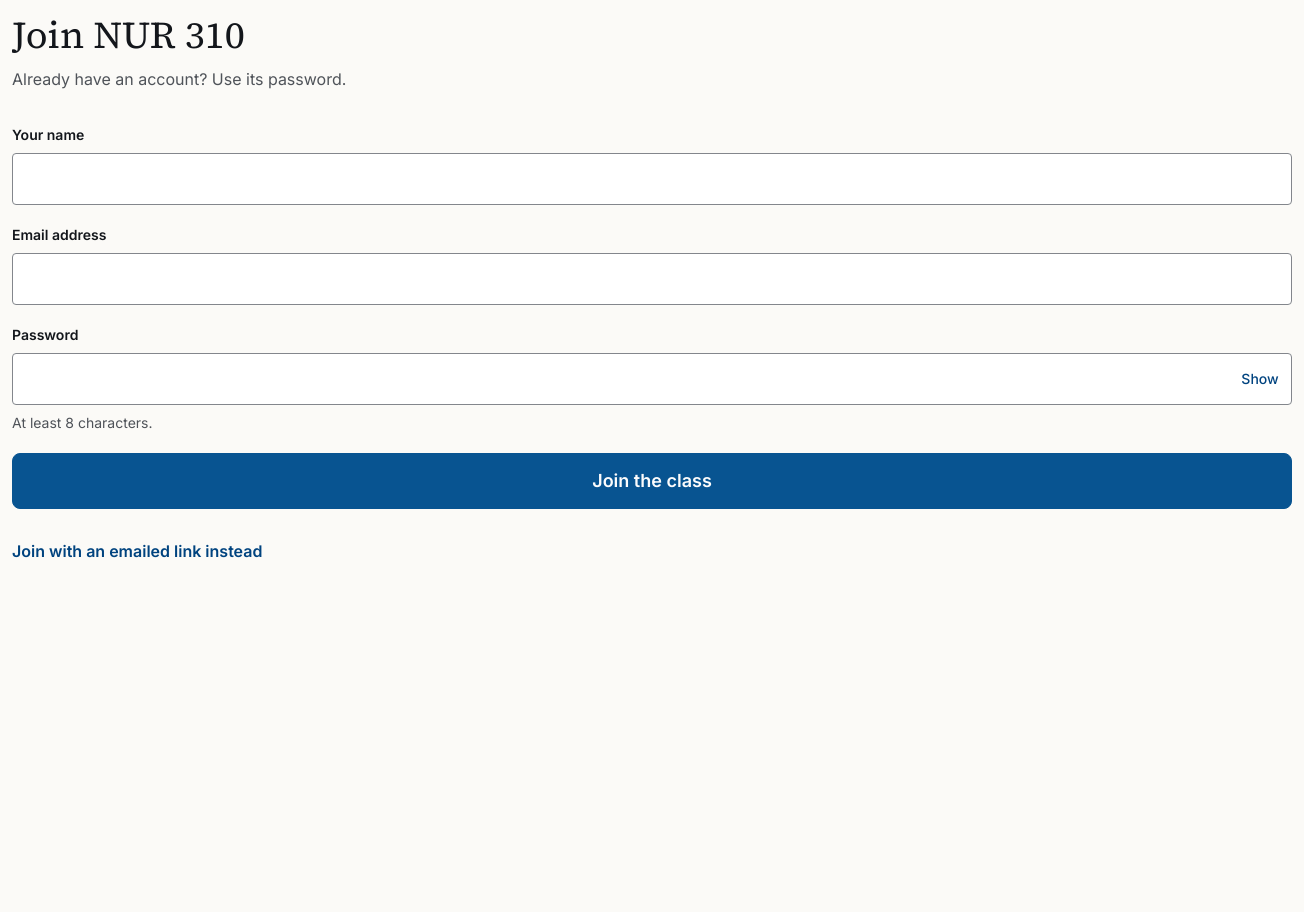
it: InvitePanel › puts a name error on the name field
This screenshot has width=1304, height=912.
Type "Ana Reyes" into the field labelled "Your name" at (652, 179), box [12,153,1292,205]
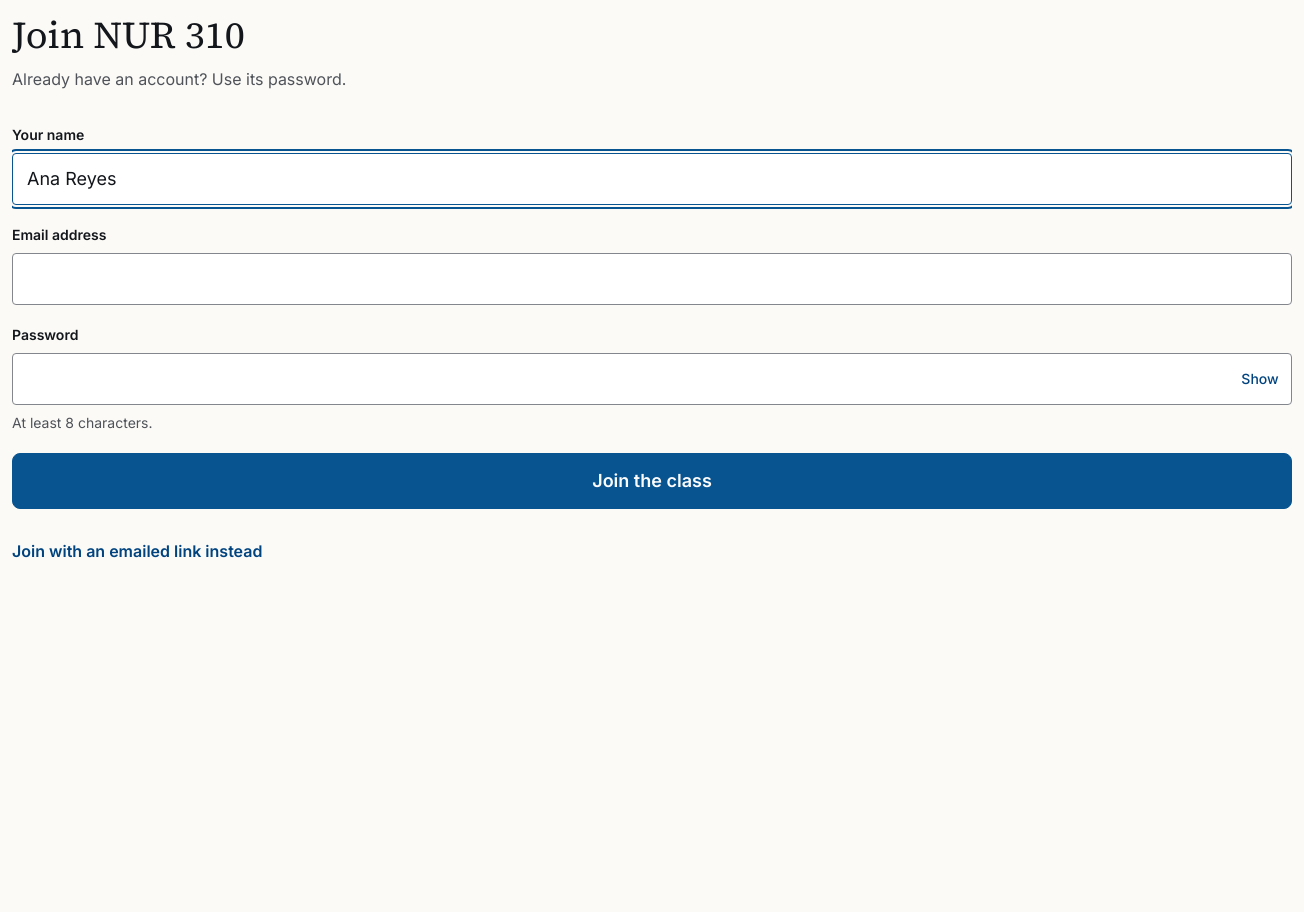
Type "a@school.edu" into the field labelled "Email address" at (652, 279), box [12,253,1292,305]
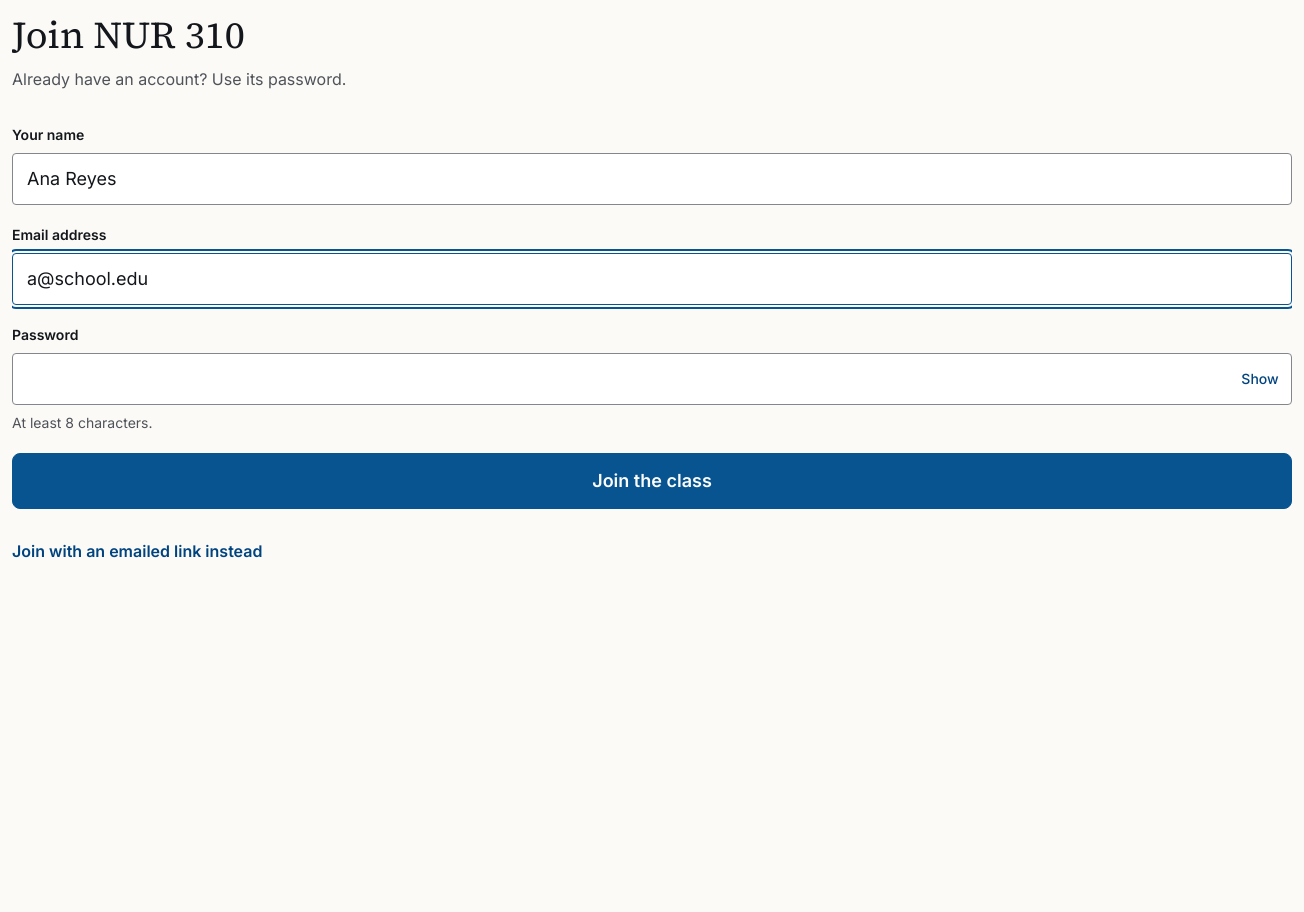
Type "correct horse" into the password field labelled "Password" at (652, 379), box [12,353,1292,405]
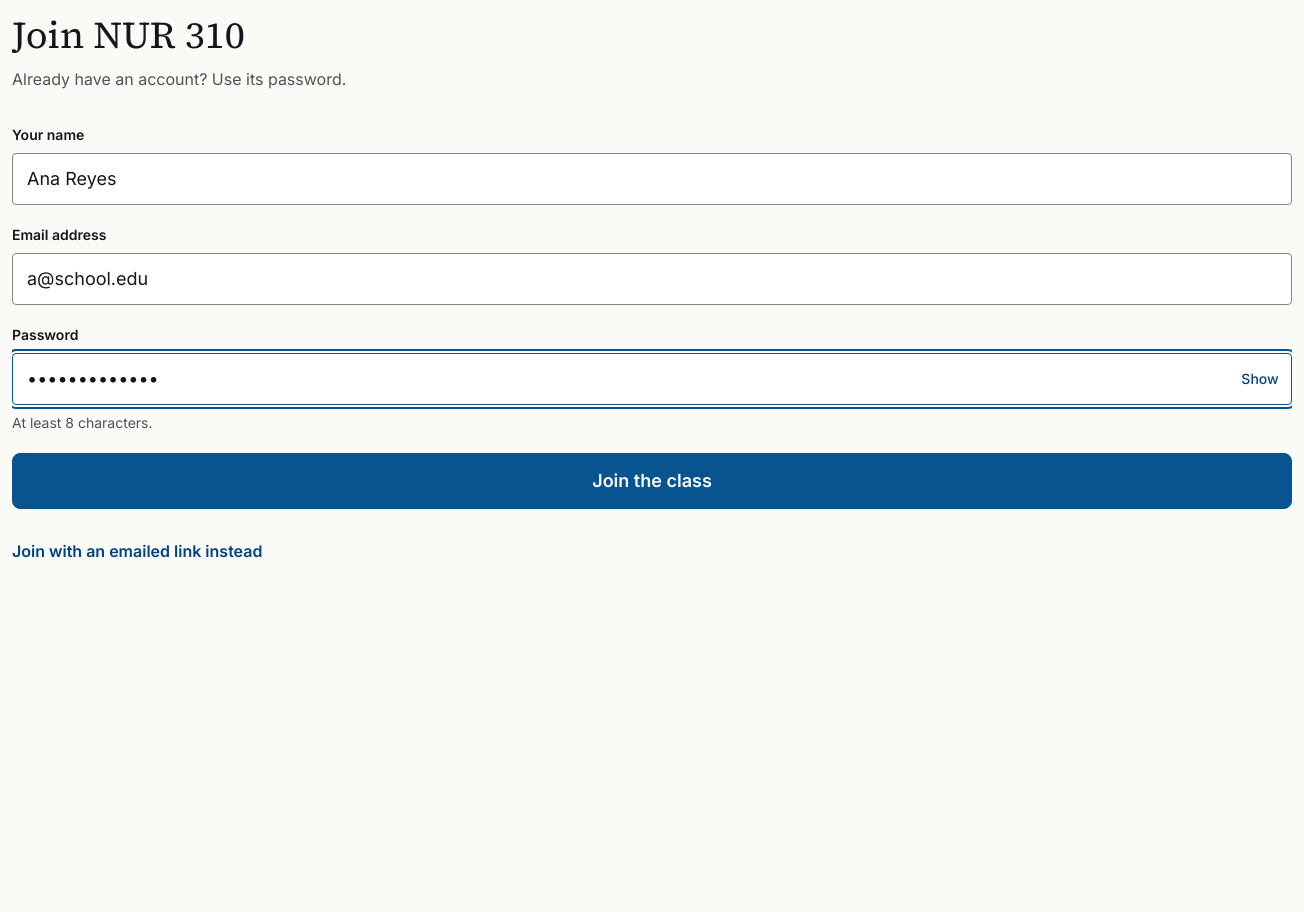
Click the button "Join the class" at (652, 481), box [12,453,1292,509]
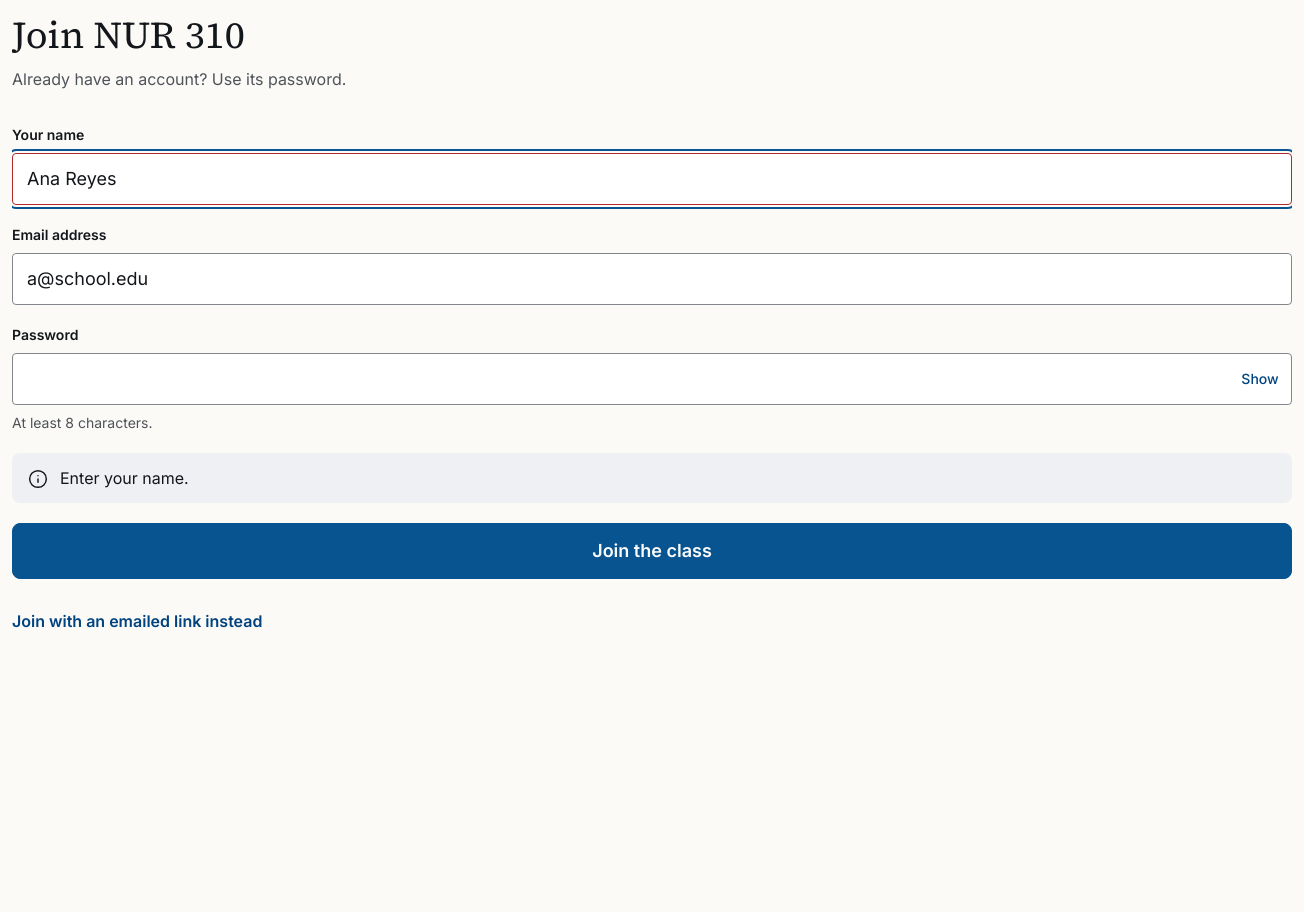
expect the message "Enter your name." is shown: met, box [12,453,1292,503]
